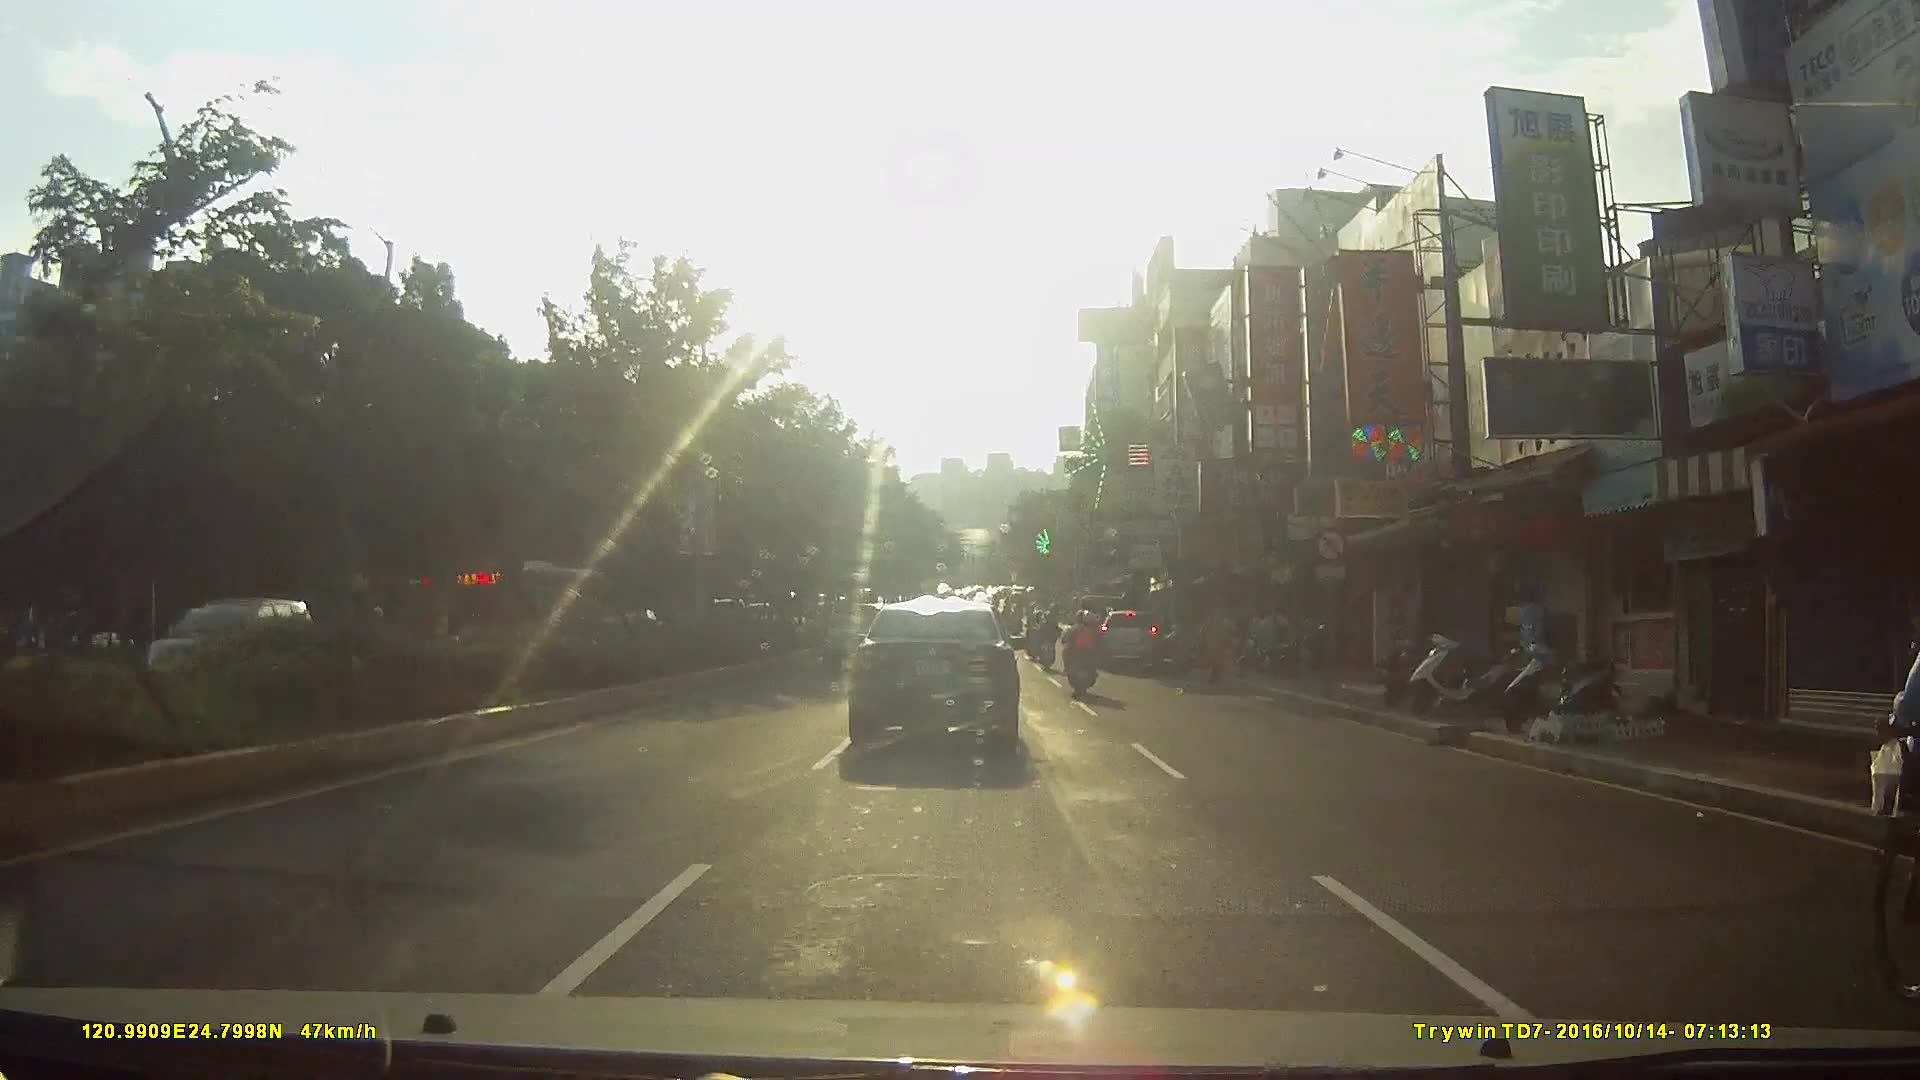pedestrian: (1508, 587, 1549, 691)
rider: (1868, 512, 1920, 1029), (1061, 612, 1105, 708), (1032, 608, 1061, 673)
vehicle: (844, 592, 1042, 767), (1092, 603, 1168, 673)
